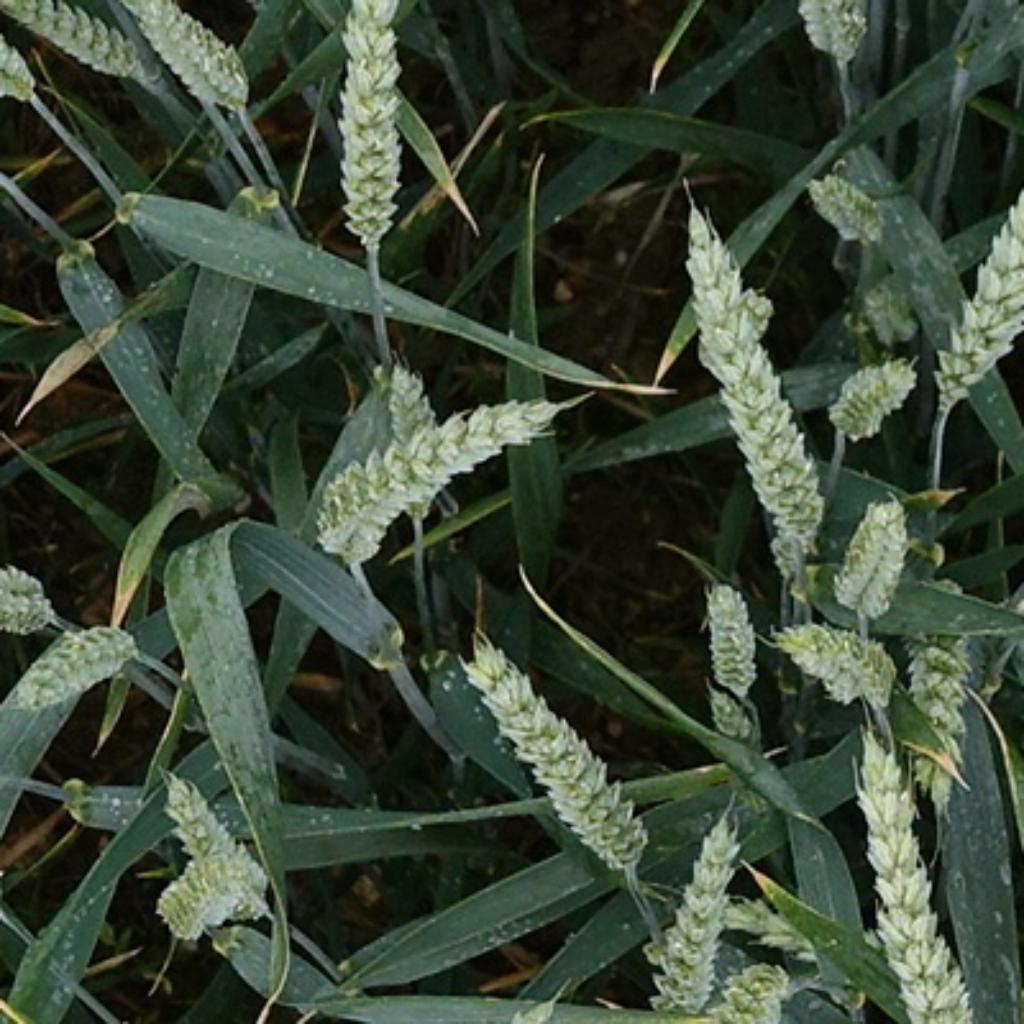0-0: (669, 201, 830, 561), (463, 634, 655, 862), (849, 730, 972, 1024), (365, 394, 585, 513), (320, 2, 414, 250), (640, 824, 747, 1013), (938, 178, 1024, 399), (156, 769, 279, 919), (896, 619, 985, 808), (133, 2, 262, 123), (296, 458, 405, 583), (17, 622, 145, 724), (373, 363, 450, 524), (7, 2, 166, 79), (773, 613, 899, 705), (829, 486, 919, 611), (700, 883, 828, 970), (821, 352, 927, 446), (696, 583, 780, 691), (697, 273, 787, 363), (158, 855, 237, 952), (800, 166, 892, 248), (785, 2, 885, 72), (704, 954, 796, 1024), (848, 274, 926, 348), (694, 682, 760, 757), (1, 560, 60, 637), (1, 30, 50, 117)
